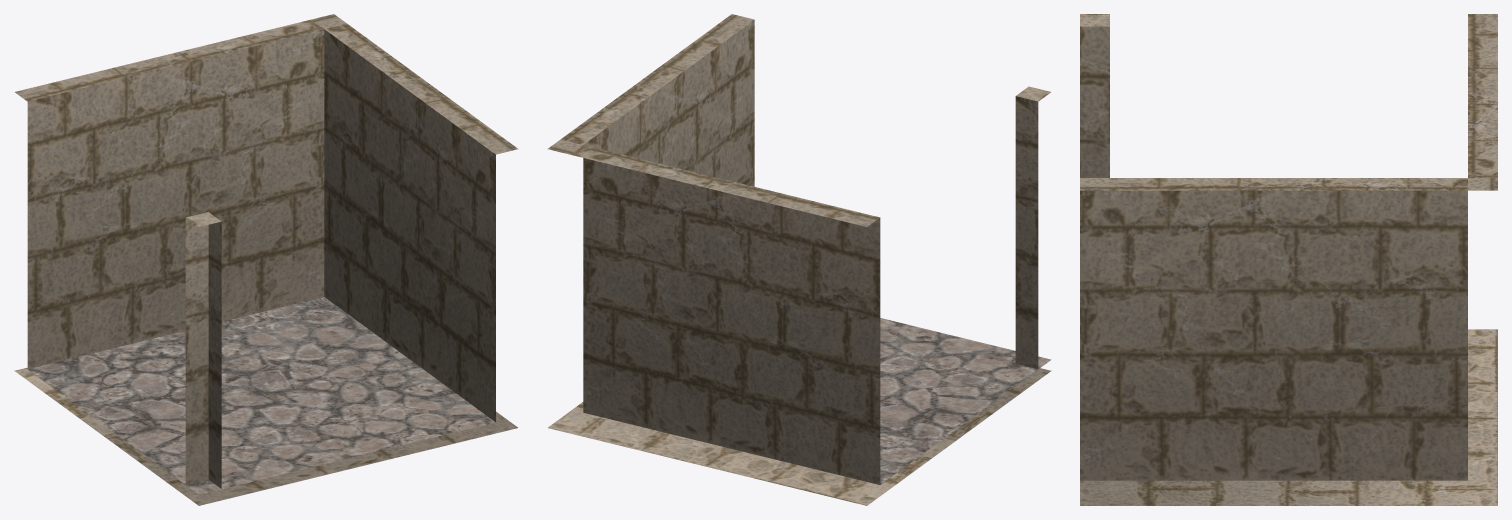
Rendered from ModuleTurn.fbx.
3 renders of one model, left to right at view 1: azimuth 30°, elevation 25°; view 2: azimuth 150°, elevation 25°; view 3: azimuth 270°, elevation 25°, orthographic. The views are drawn at different scales.
Parts seen in each view (by area): view 1: ModuleTurn, ModuleTurnFloorEdgeTile, ModuleTurnFloorEdge; view 2: ModuleTurn, ModuleTurnFloorEdgeTile, ModuleTurnFloorEdge; view 3: ModuleTurn, ModuleTurnFloorEdge.
Boxes of the visible parts, <box> form: ModuleTurn: <box>15,14,518,488</box>; ModuleTurnFloorEdgeTile: <box>28,297,495,494</box>; ModuleTurnFloorEdge: <box>14,367,517,505</box>; ModuleTurn: <box>547,14,1050,484</box>; ModuleTurnFloorEdgeTile: <box>880,318,1051,484</box>; ModuleTurnFloorEdge: <box>548,368,1051,505</box>; ModuleTurn: <box>1080,14,1497,480</box>; ModuleTurnFloorEdge: <box>1080,329,1497,505</box>.
Bounding box in the file's own units: 300 × 250 × 300.
